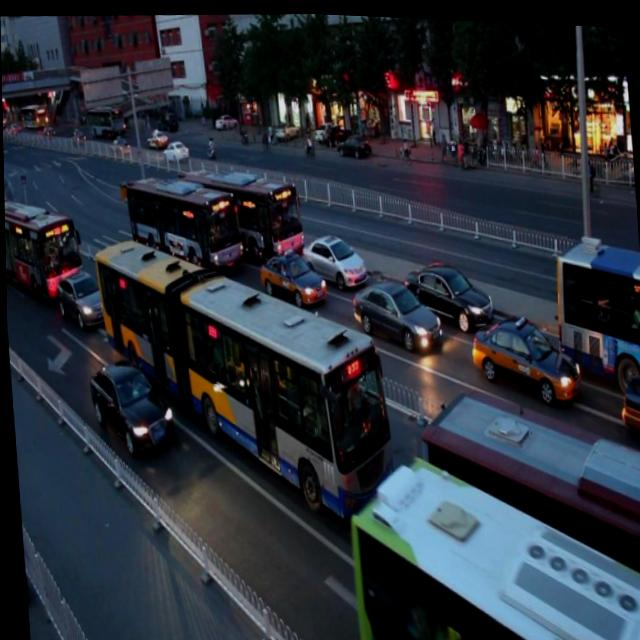car: (467, 301, 580, 407), (86, 357, 176, 458), (347, 265, 439, 352), (403, 247, 492, 327), (254, 237, 324, 308), (297, 219, 364, 289), (53, 265, 111, 329), (613, 357, 640, 440)
van: (89, 216, 395, 528), (417, 375, 640, 640), (347, 445, 640, 640), (122, 160, 243, 282), (549, 225, 640, 383), (180, 152, 304, 265), (3, 188, 80, 293)
